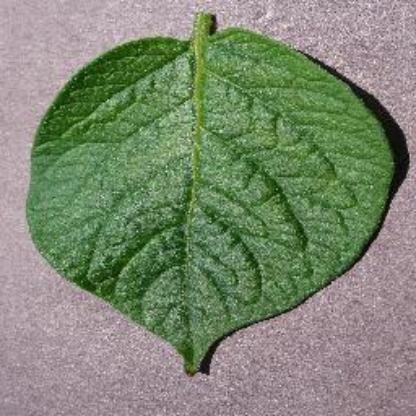Healthy-plant: (26, 11, 398, 375)
